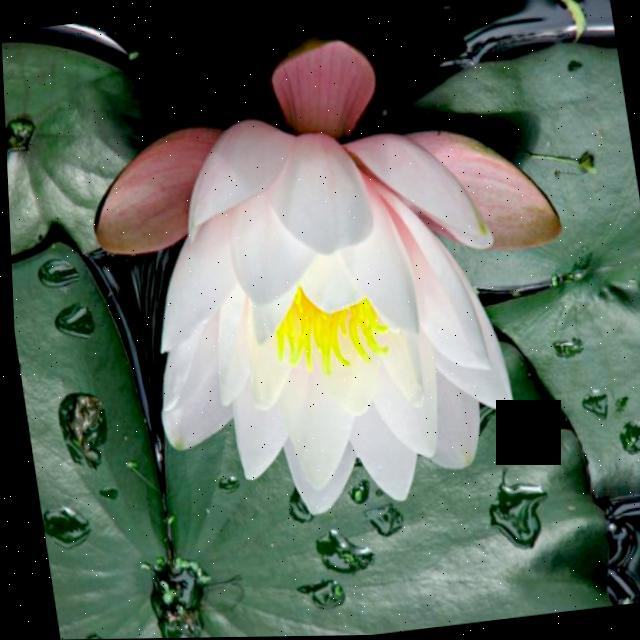water-lily: (57, 0, 610, 549)
